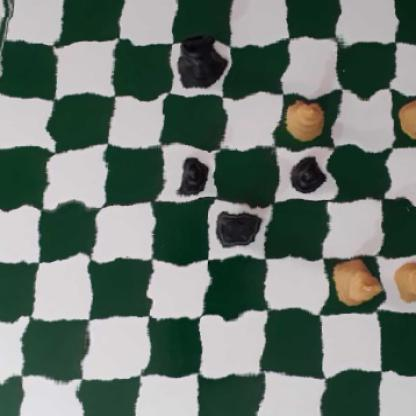black-king: (170, 33, 227, 93)
black-pawn: (168, 155, 215, 199), (288, 154, 326, 195)
black-rook: (214, 206, 266, 251)
white-bishop: (284, 94, 327, 139)
white-king: (323, 260, 382, 304)
white-pawn: (391, 261, 416, 304)
white-rook: (396, 87, 416, 139)
